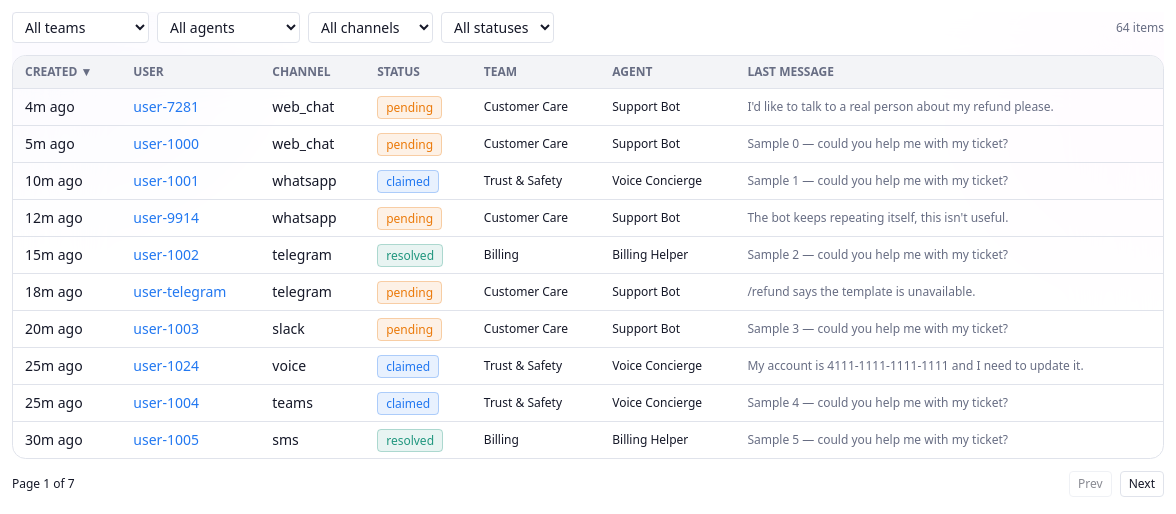
Test: InboxQueue › toggles sort direction when clicking the same column twice
Click the button with test id "queue-sort-user_id": (149, 72) [133, 64, 164, 80]
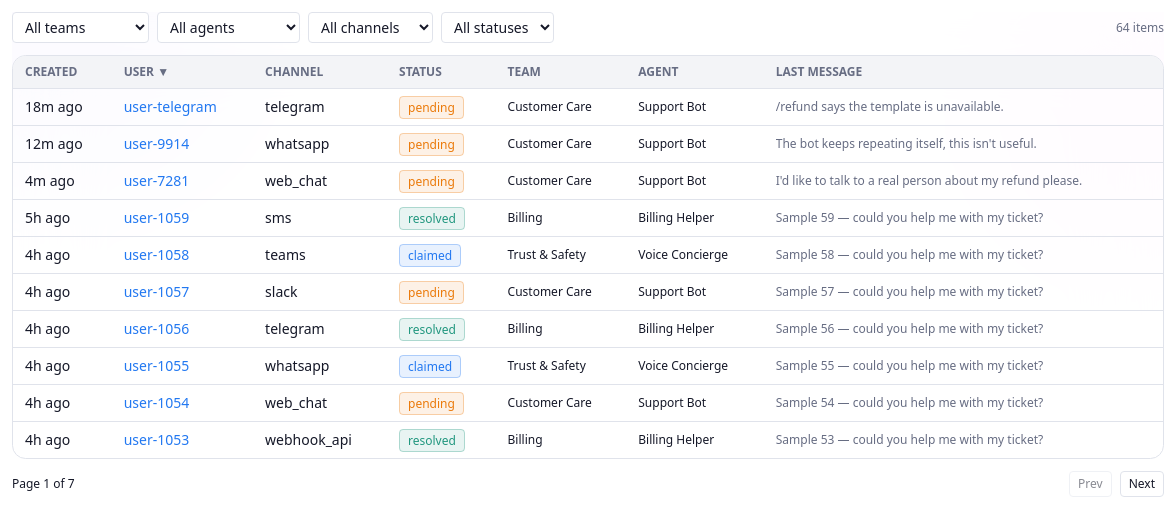
Now the button with test id "queue-sort-user_id" shows "▼"
Click the button with test id "queue-sort-user_id": (146, 72) [124, 64, 169, 80]
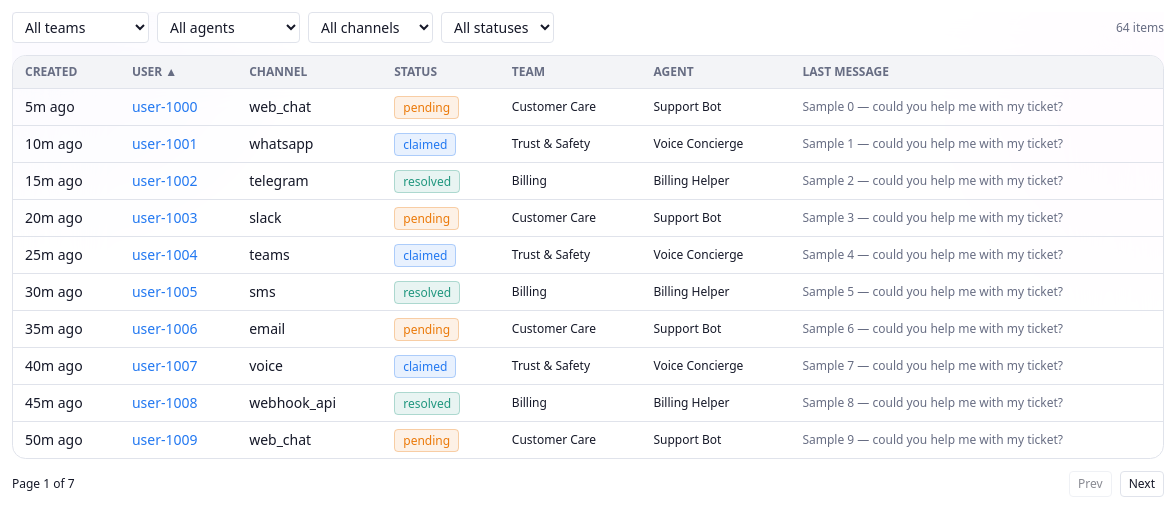
Now the button with test id "queue-sort-user_id" shows "▲", box [132, 64, 177, 80]
